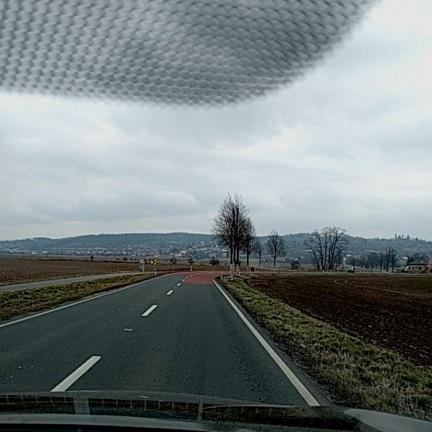Road: (0, 273, 307, 405), (0, 272, 139, 291)
